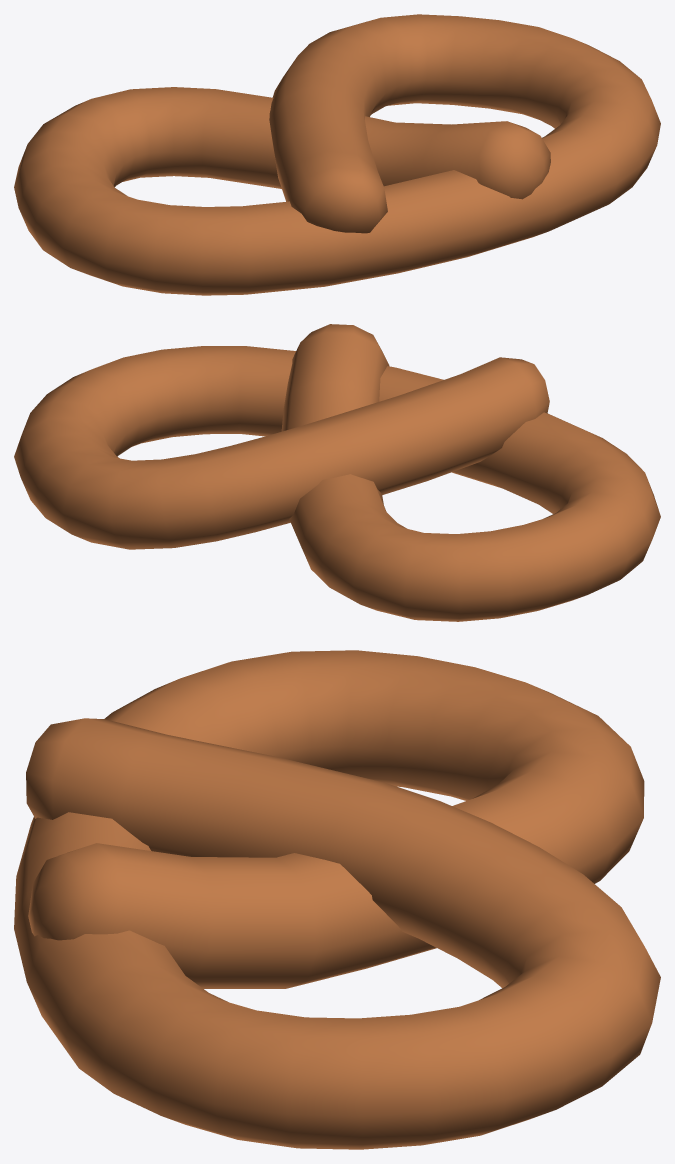
File: Pretzel_01.fbx
The picture shows the model from 3 angles, top to bottom: view 1: azimuth 30°, elevation 25°; view 2: azimuth 150°, elevation 25°; view 3: azimuth 270°, elevation 25°; orthographic projection. The views are drawn at different scales.
Visible parts, largest first — view 1: Pretzel_01; view 2: Pretzel_01; view 3: Pretzel_01.
Part boxes in pixels (x1,y1,x2,y2): Pretzel_01: (14,14,660,295); Pretzel_01: (14,324,660,621); Pretzel_01: (14,650,660,1149).
Bounding box in the file's own units: 0.1735 × 0.0326 × 0.1103.
